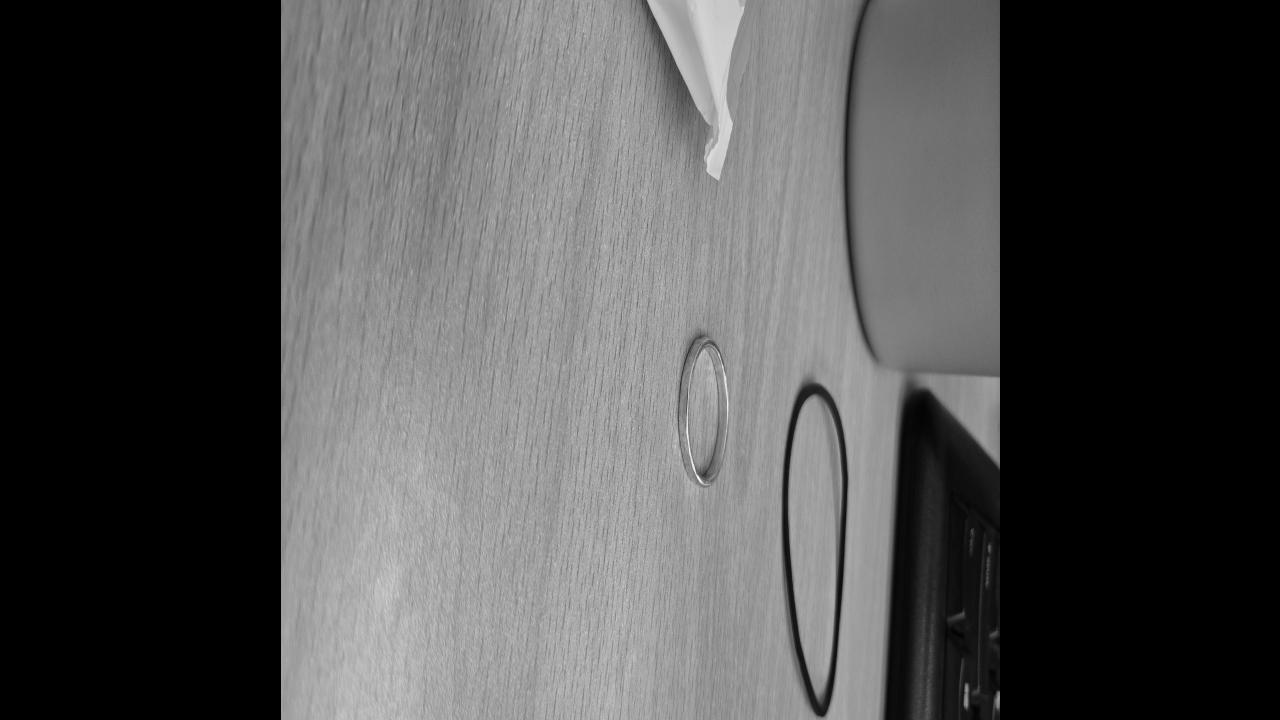ring: (676, 332, 730, 492)
